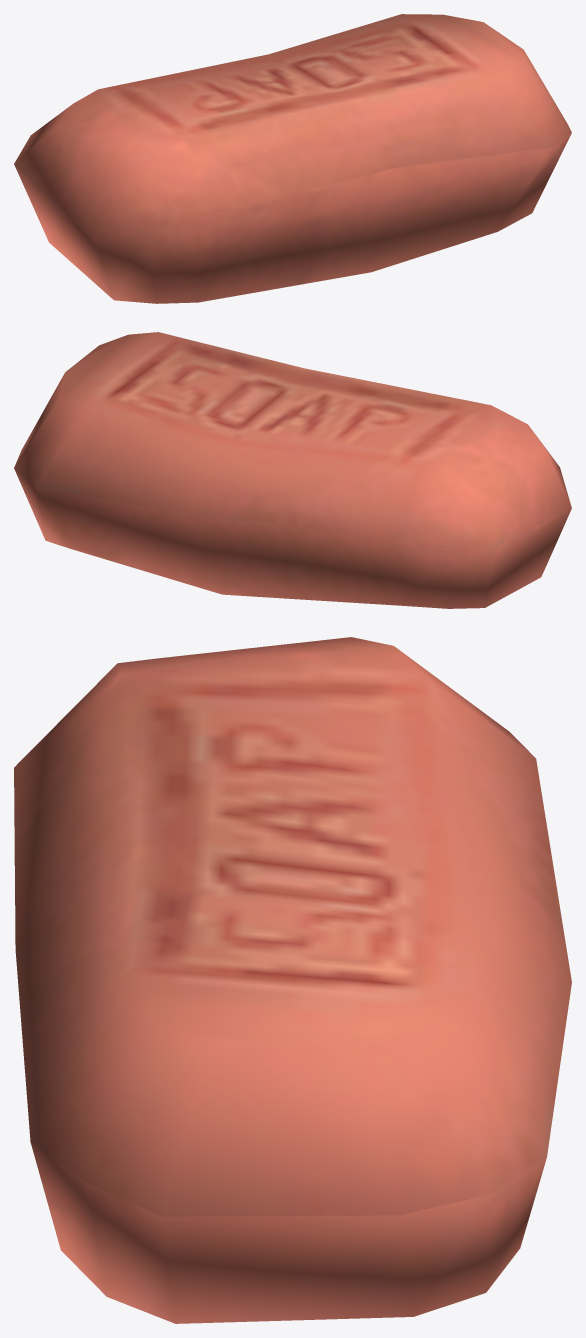
File: soap_small_pink.DAE
The picture shows the model from 3 angles, top to bottom: view 1: azimuth 30°, elevation 25°; view 2: azimuth 150°, elevation 25°; view 3: azimuth 270°, elevation 25°; orthographic projection. The views are drawn at different scales.
Parts seen in each view (by area): view 1: Box001; view 2: Box001; view 3: Box001.
Boxes of the visible parts, x1,y1,x2,y2 form: Box001: [14, 14, 571, 303]; Box001: [14, 332, 571, 608]; Box001: [14, 637, 571, 1323].
Size of the model in its own units: 0.1328 by 0.0433 by 0.0689.
